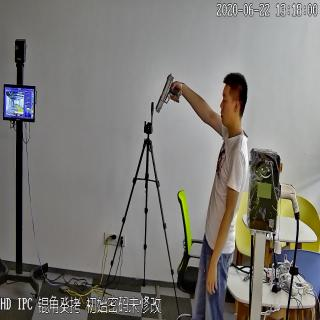gun: (155, 72, 180, 116)
